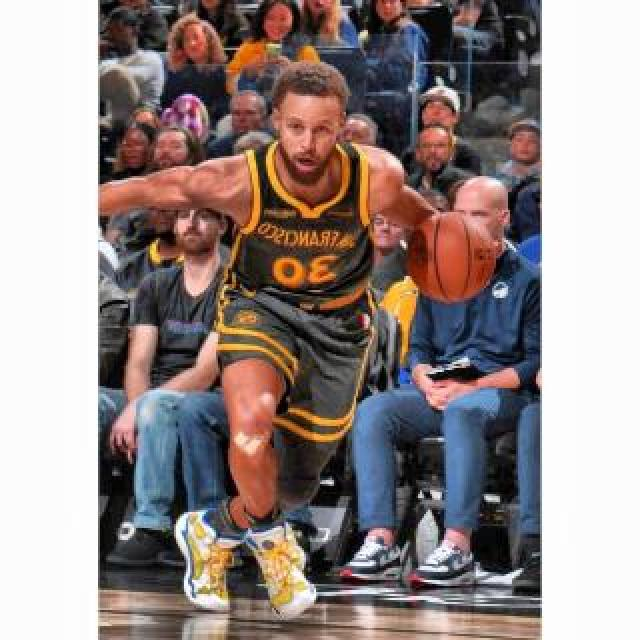shoe: (247, 517, 317, 617), (176, 508, 240, 614), (412, 535, 478, 589), (340, 532, 404, 582)
